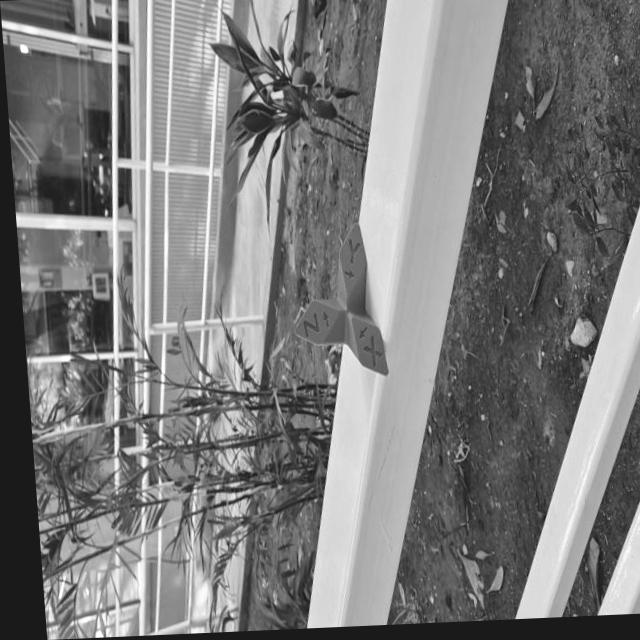eje: (285, 219, 391, 382)
